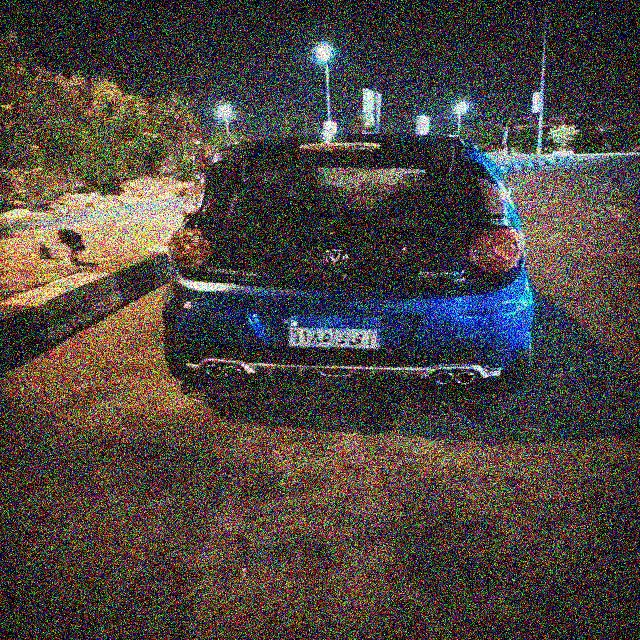License Plate: (286, 313, 382, 352)
